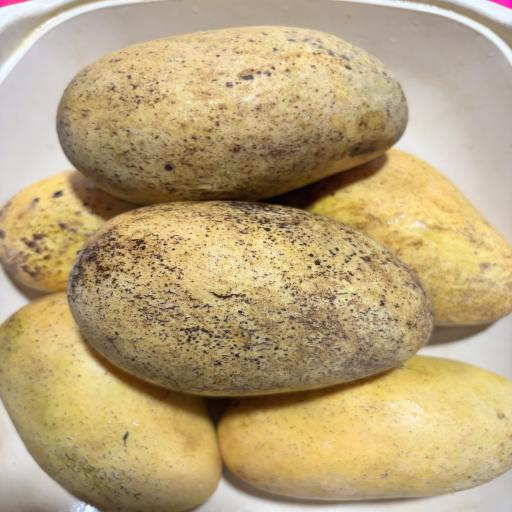fruit: (73, 189, 413, 394), (44, 15, 406, 199), (208, 308, 512, 505), (245, 108, 512, 330), (3, 285, 220, 512), (0, 151, 129, 291)
